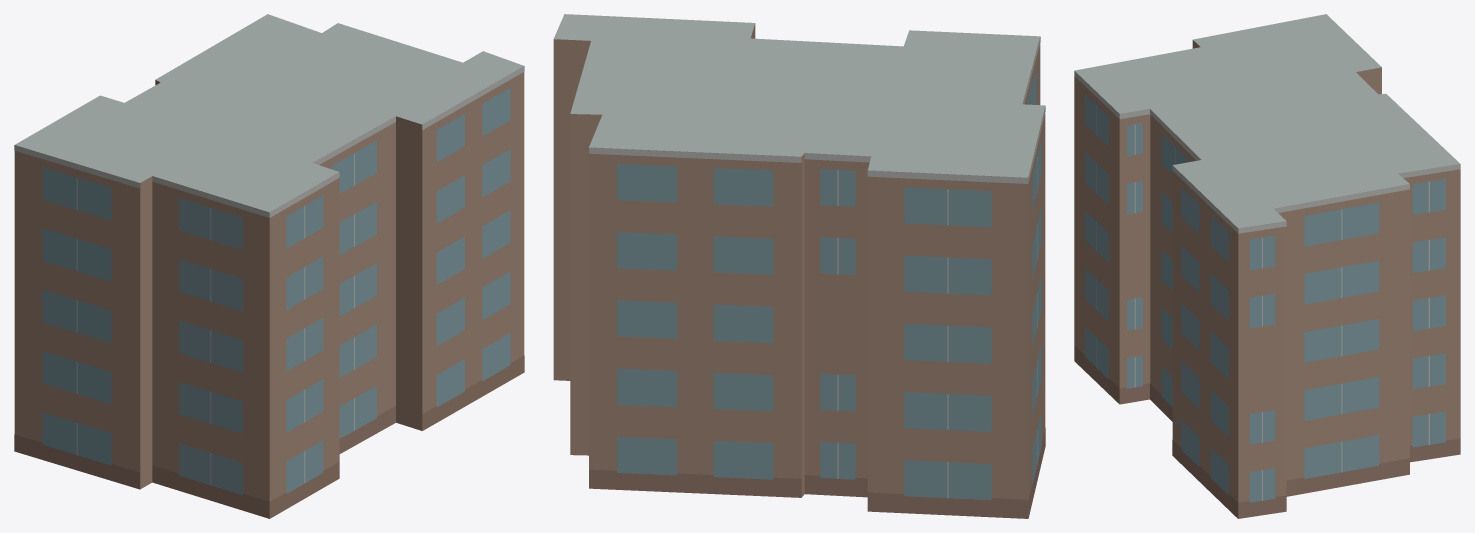
The model's file is survey-upis-32602366.glb.
3 views of the same model, side by side, from view 1: azimuth 30°, elevation 25°; view 2: azimuth 150°, elevation 25°; view 3: azimuth 270°, elevation 25° (orthographic). The views are drawn at different scales.
Visible parts, largest first — view 1: survey-upis-32602366.tmp; view 2: survey-upis-32602366.tmp; view 3: survey-upis-32602366.tmp.
Part boxes in pixels (x1,y1,x2,y2): survey-upis-32602366.tmp: (14,14,524,518); survey-upis-32602366.tmp: (553,14,1045,518); survey-upis-32602366.tmp: (1074,14,1460,518).
Size of the model in its own units: 21.06 by 13.3 by 16.04.
